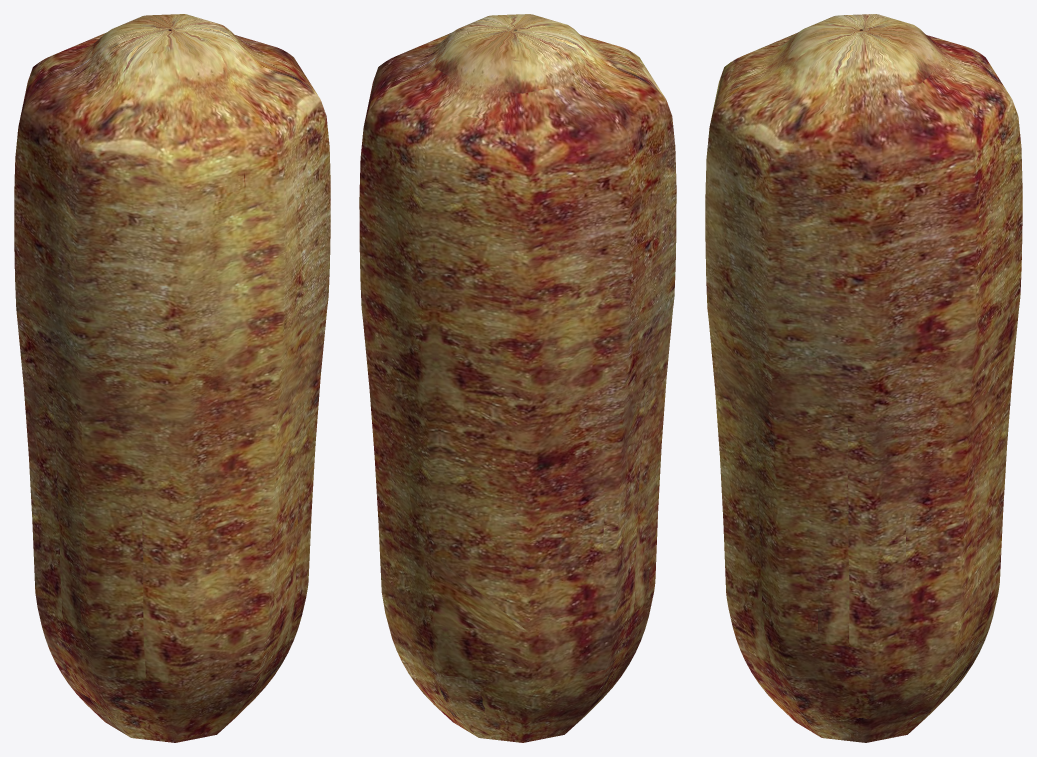
Rendered from Meat 1.FBX.
3 views of the same model, side by side, from view 1: azimuth 30°, elevation 25°; view 2: azimuth 150°, elevation 25°; view 3: azimuth 270°, elevation 25° (orthographic).
Parts seen in each view (by area): view 1: meat 1; view 2: meat 1; view 3: meat 1.
Part boxes in pixels (<box>): meat 1: <box>14,14,330,742</box>; meat 1: <box>359,14,676,742</box>; meat 1: <box>705,14,1022,742</box>.
Bounding box in the file's own units: 32.83 × 78.37 × 32.83.
Materials: 1 (1 with a texture image).
